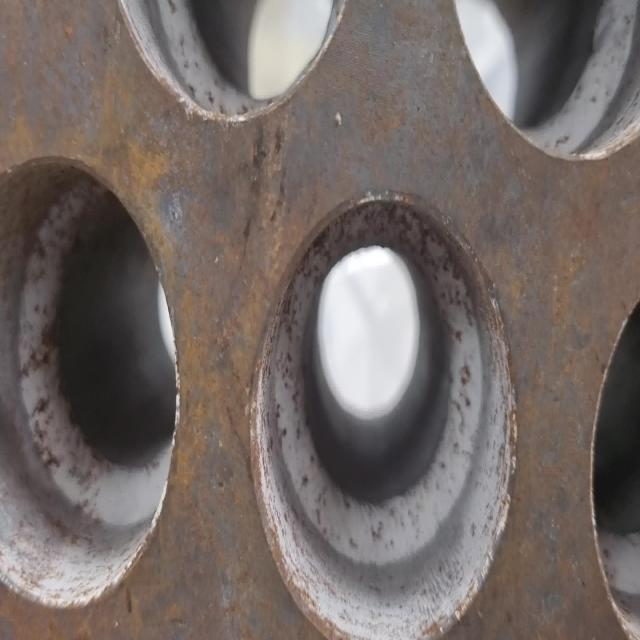Hole: (248, 192, 517, 640), (1, 153, 181, 612), (448, 1, 638, 161), (110, 1, 350, 124)
